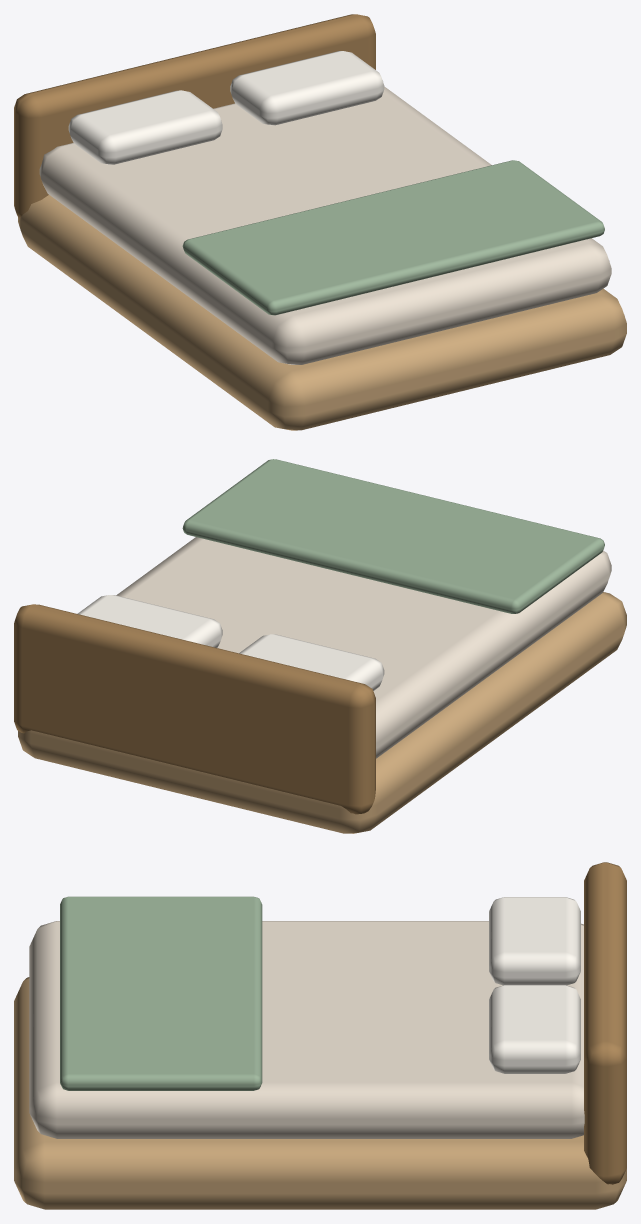
Rendered from bed.glb.
3 views of the same model, one above another, from view 1: azimuth 30°, elevation 25°; view 2: azimuth 150°, elevation 25°; view 3: azimuth 270°, elevation 25° (orthographic). The views are drawn at different scales.
Size of the model in its own units: 1.5 by 0.62 by 2.
